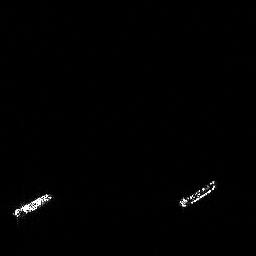ship: (177, 178, 220, 209), (9, 190, 53, 220)
